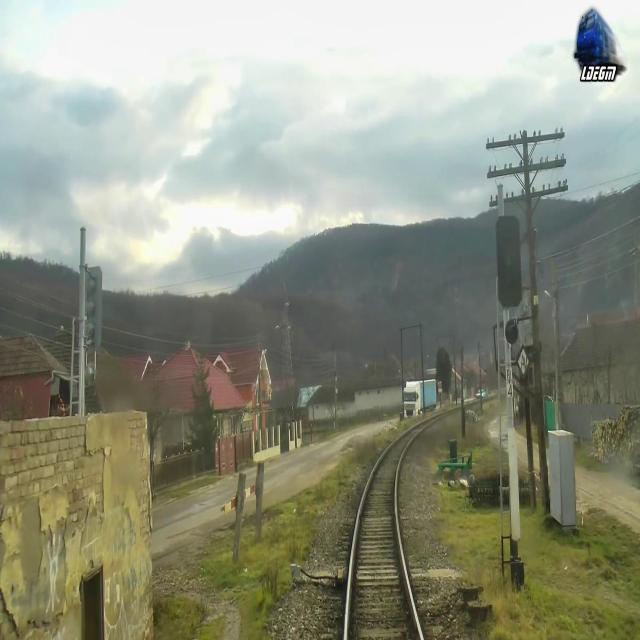rail-track: (349, 432, 419, 639)
